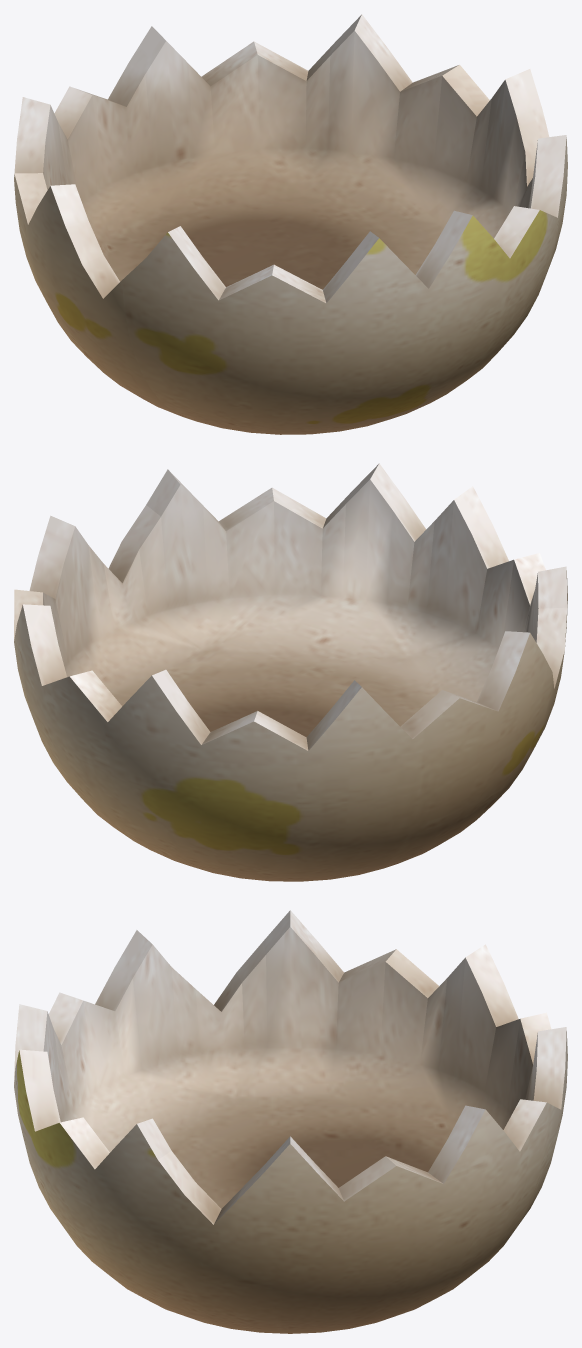
File: Egg_ShallA.fbx
3 views of the same model, one above another, from view 1: azimuth 30°, elevation 25°; view 2: azimuth 150°, elevation 25°; view 3: azimuth 270°, elevation 25° (orthographic).
Parts seen in each view (by area): view 1: Egg_ShallA; view 2: Egg_ShallA; view 3: Egg_ShallA.
Boxes of the visible parts, box(x1,y1,x2,y2) form: Egg_ShallA: box(14, 14, 567, 434); Egg_ShallA: box(14, 463, 567, 881); Egg_ShallA: box(14, 910, 567, 1333).
Bounding box in the file's own units: 64.48 × 35.04 × 64.32.
